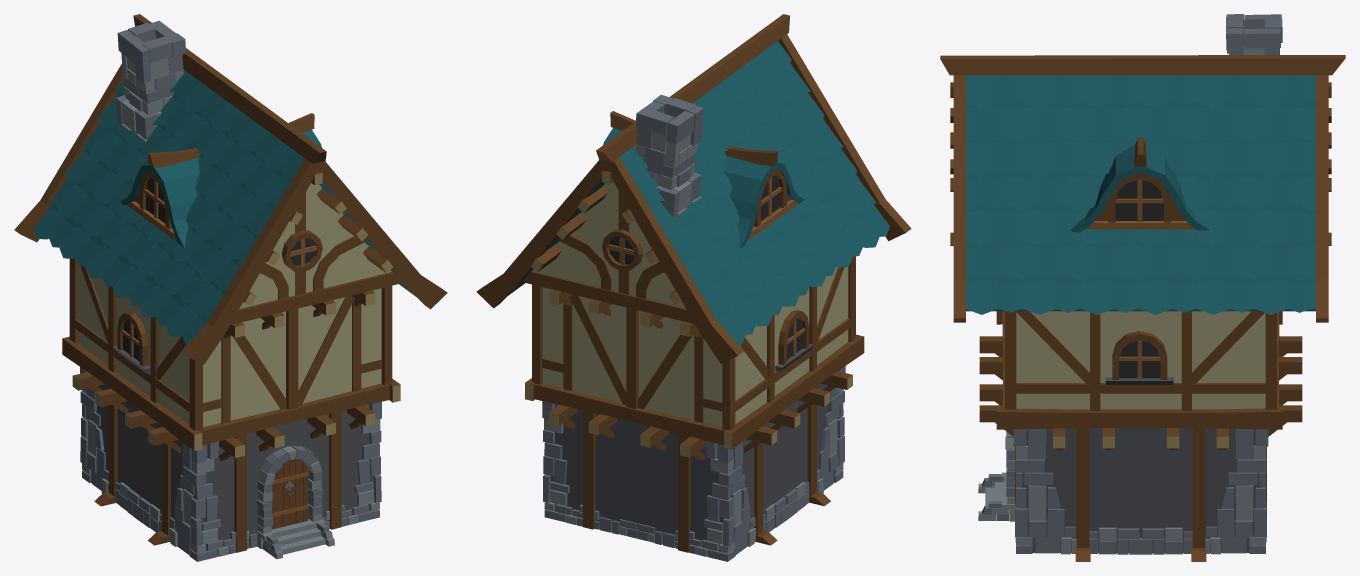
File: Fantasy House-2.glb
3 views of the same model, side by side, from view 1: azimuth 30°, elevation 25°; view 2: azimuth 150°, elevation 25°; view 3: azimuth 270°, elevation 25° (orthographic). The views are drawn at different scales.
Visible parts, largest first — view 1: Fantasy House-2; view 2: Fantasy House-2; view 3: Fantasy House-2.
Boxes of the visible parts, x1=… form: Fantasy House-2: x1=14, y1=14, x2=447, y2=561; Fantasy House-2: x1=476, y1=14, x2=911, y2=561; Fantasy House-2: x1=940, y1=14, x2=1345, y2=561.
Size of the model in its own units: 2.14 by 3.39 by 2.66.
